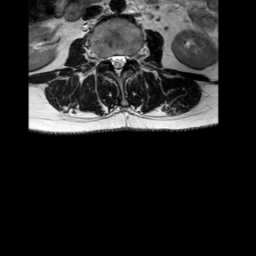CCS_normal: (114, 46, 120, 82)
LFS_stenosis: (127, 46, 134, 66)
LLS_normal: (120, 46, 127, 70)
RFS_stenosis: (100, 48, 107, 68)
RLS_normal: (107, 47, 114, 69)
